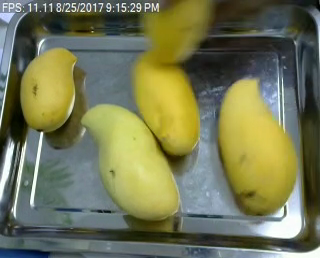Mango: (79, 102, 186, 222), (216, 75, 297, 215), (129, 54, 202, 158), (20, 47, 79, 130)
